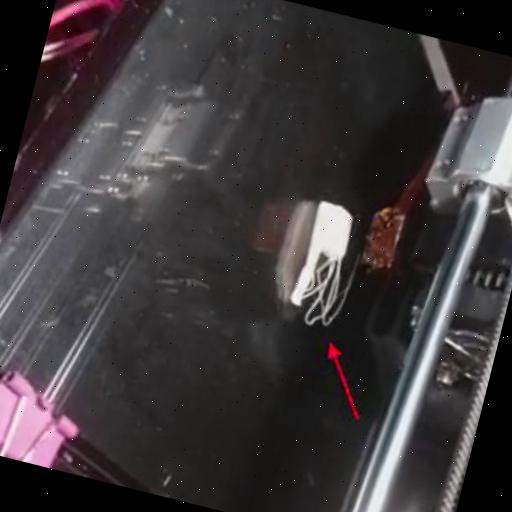spaghetti: (297, 246, 361, 332)
